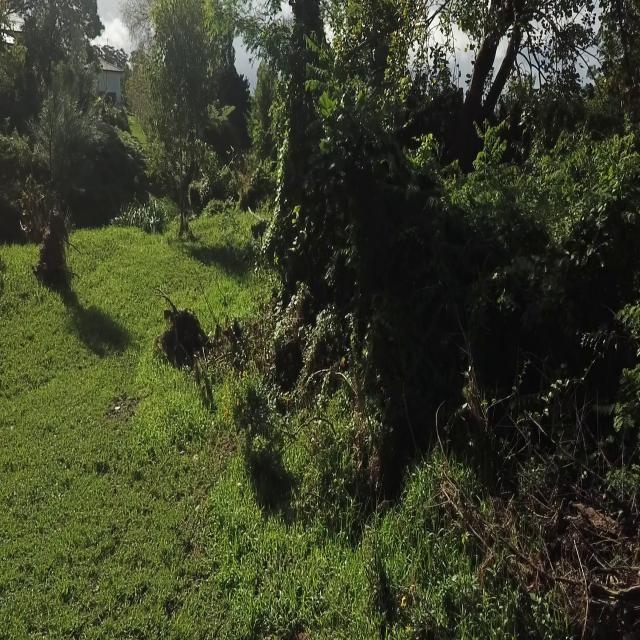Mysore-Thorn-Weed: (535, 127, 588, 255), (597, 122, 640, 210), (613, 292, 640, 427), (472, 113, 506, 208)
